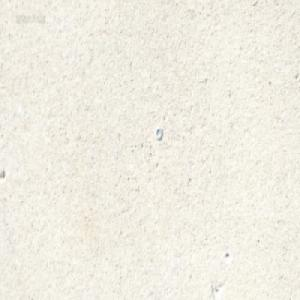Washer: (155, 126, 162, 140)
